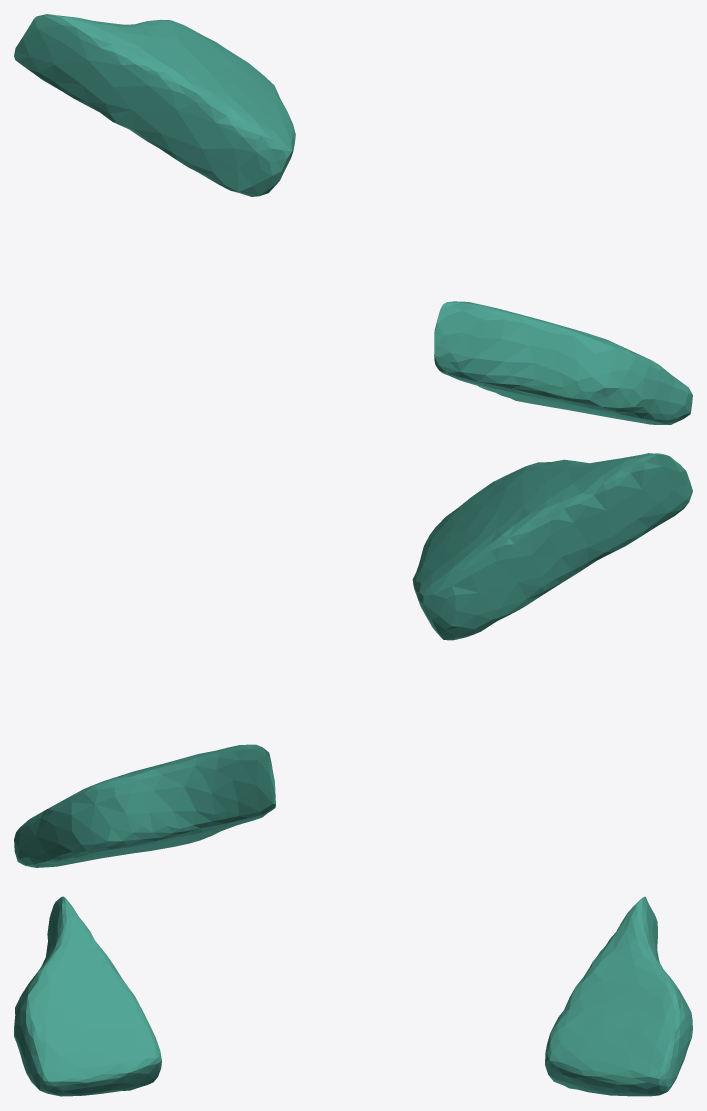
3 renders of one model, top to bottom at view 1: azimuth 30°, elevation 25°; view 2: azimuth 150°, elevation 25°; view 3: azimuth 270°, elevation 25°, orthographic. The views are drawn at different scales.
Visible parts, largest first — view 1: 478.obj; view 2: 478.obj; view 3: 478.obj.
Boxes of the visible parts, <box> form: 478.obj: <box>14,14,692,424</box>; 478.obj: <box>14,453,692,867</box>; 478.obj: <box>14,896,692,1096</box>.
Size of the model in its own units: 1314 by 879 by 4101.
